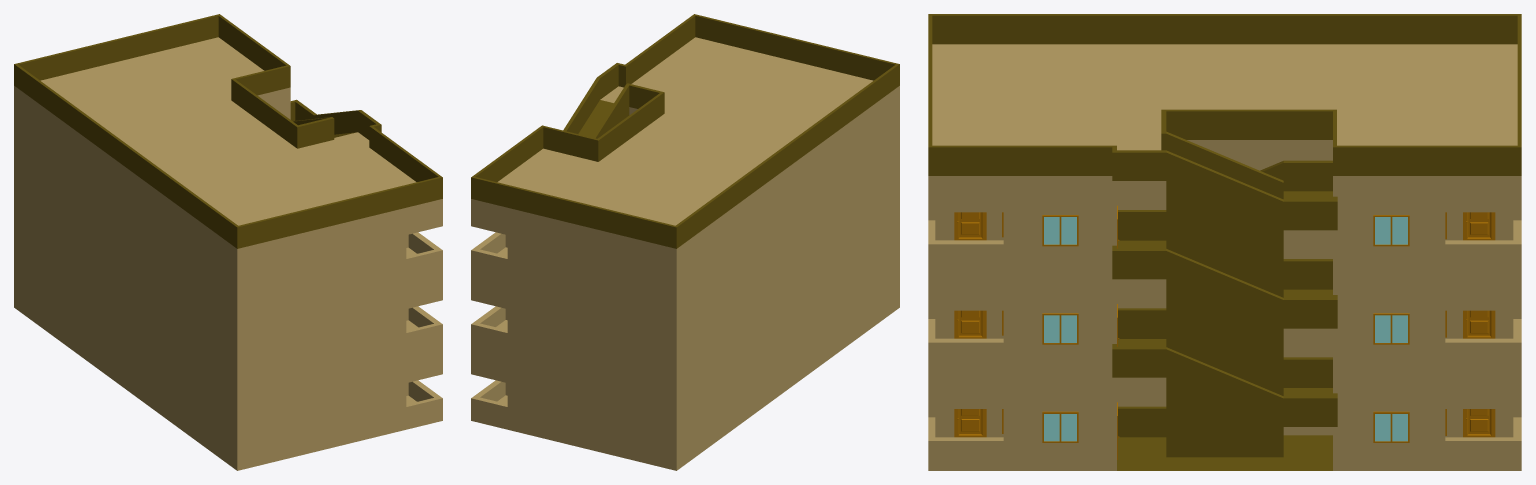
Rendered from ApartmentsV1.fbx.
3 views of the same model, side by side, from view 1: azimuth 30°, elevation 25°; view 2: azimuth 150°, elevation 25°; view 3: azimuth 270°, elevation 25° (orthographic). The views are drawn at different scales.
Visible parts, largest first — view 1: Cube, Cube.002, Cube.001; view 2: Cube, Cube.002, Cube.001; view 3: Cube, Cube.001, Cube.002, Cube.009, Cube.029.
Boxes of the visible parts, x1,y1,x2,y2 form: Cube: (14, 37, 442, 470); Cube.002: (14, 14, 442, 248); Cube.001: (290, 99, 381, 147); Cube: (471, 37, 899, 470); Cube.002: (471, 14, 899, 248); Cube.001: (563, 63, 661, 138); Cube: (928, 44, 1521, 470); Cube.001: (1112, 111, 1337, 470); Cube.002: (928, 14, 1521, 175); Cube.009: (1042, 215, 1409, 442); Cube.029: (954, 212, 1495, 437).
Size of the model in its own units: 1389 by 1513 by 2515.
